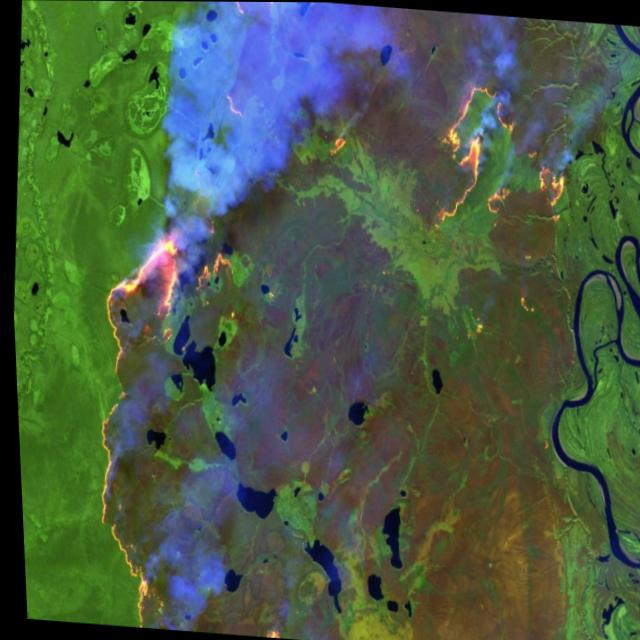fire: (70, 215, 258, 634), (412, 67, 579, 251), (210, 1, 304, 43), (320, 120, 359, 168)
